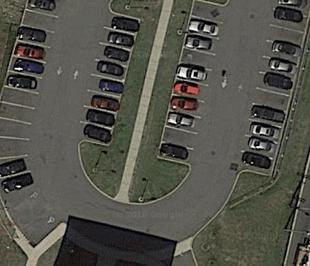parkingspot: (0, 0, 66, 250), (235, 0, 310, 178), (157, 0, 229, 168), (74, 10, 140, 147)
